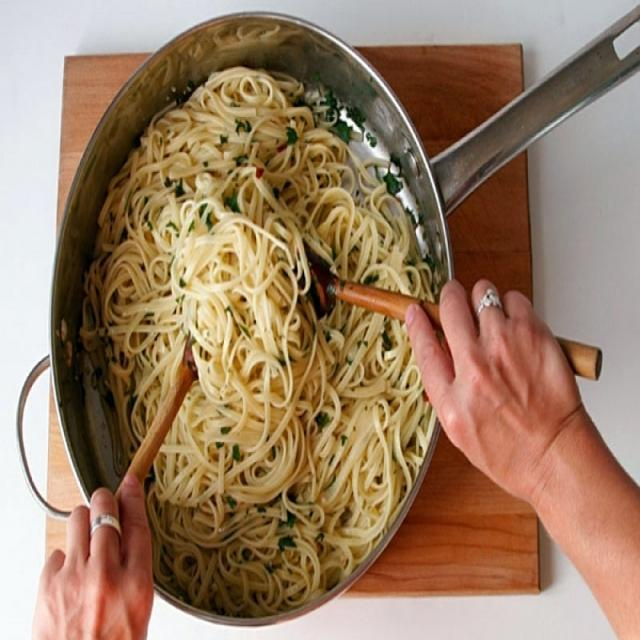Oil pasta: (68, 51, 463, 600)
